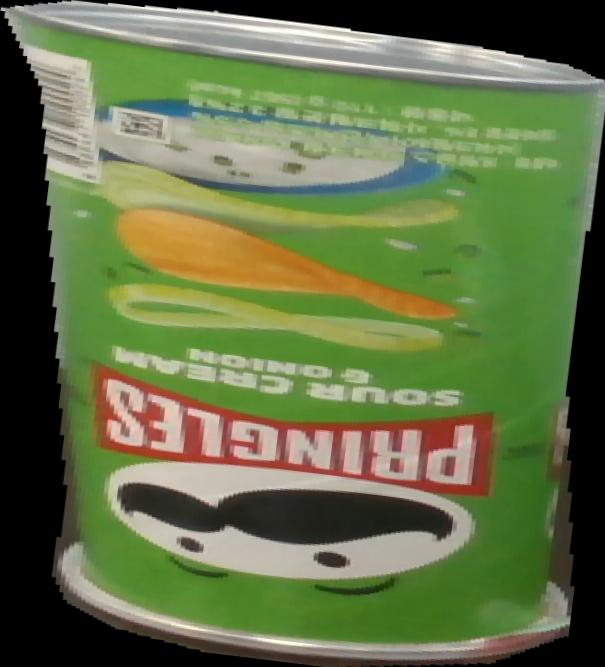pringles: (1, 0, 604, 666)
